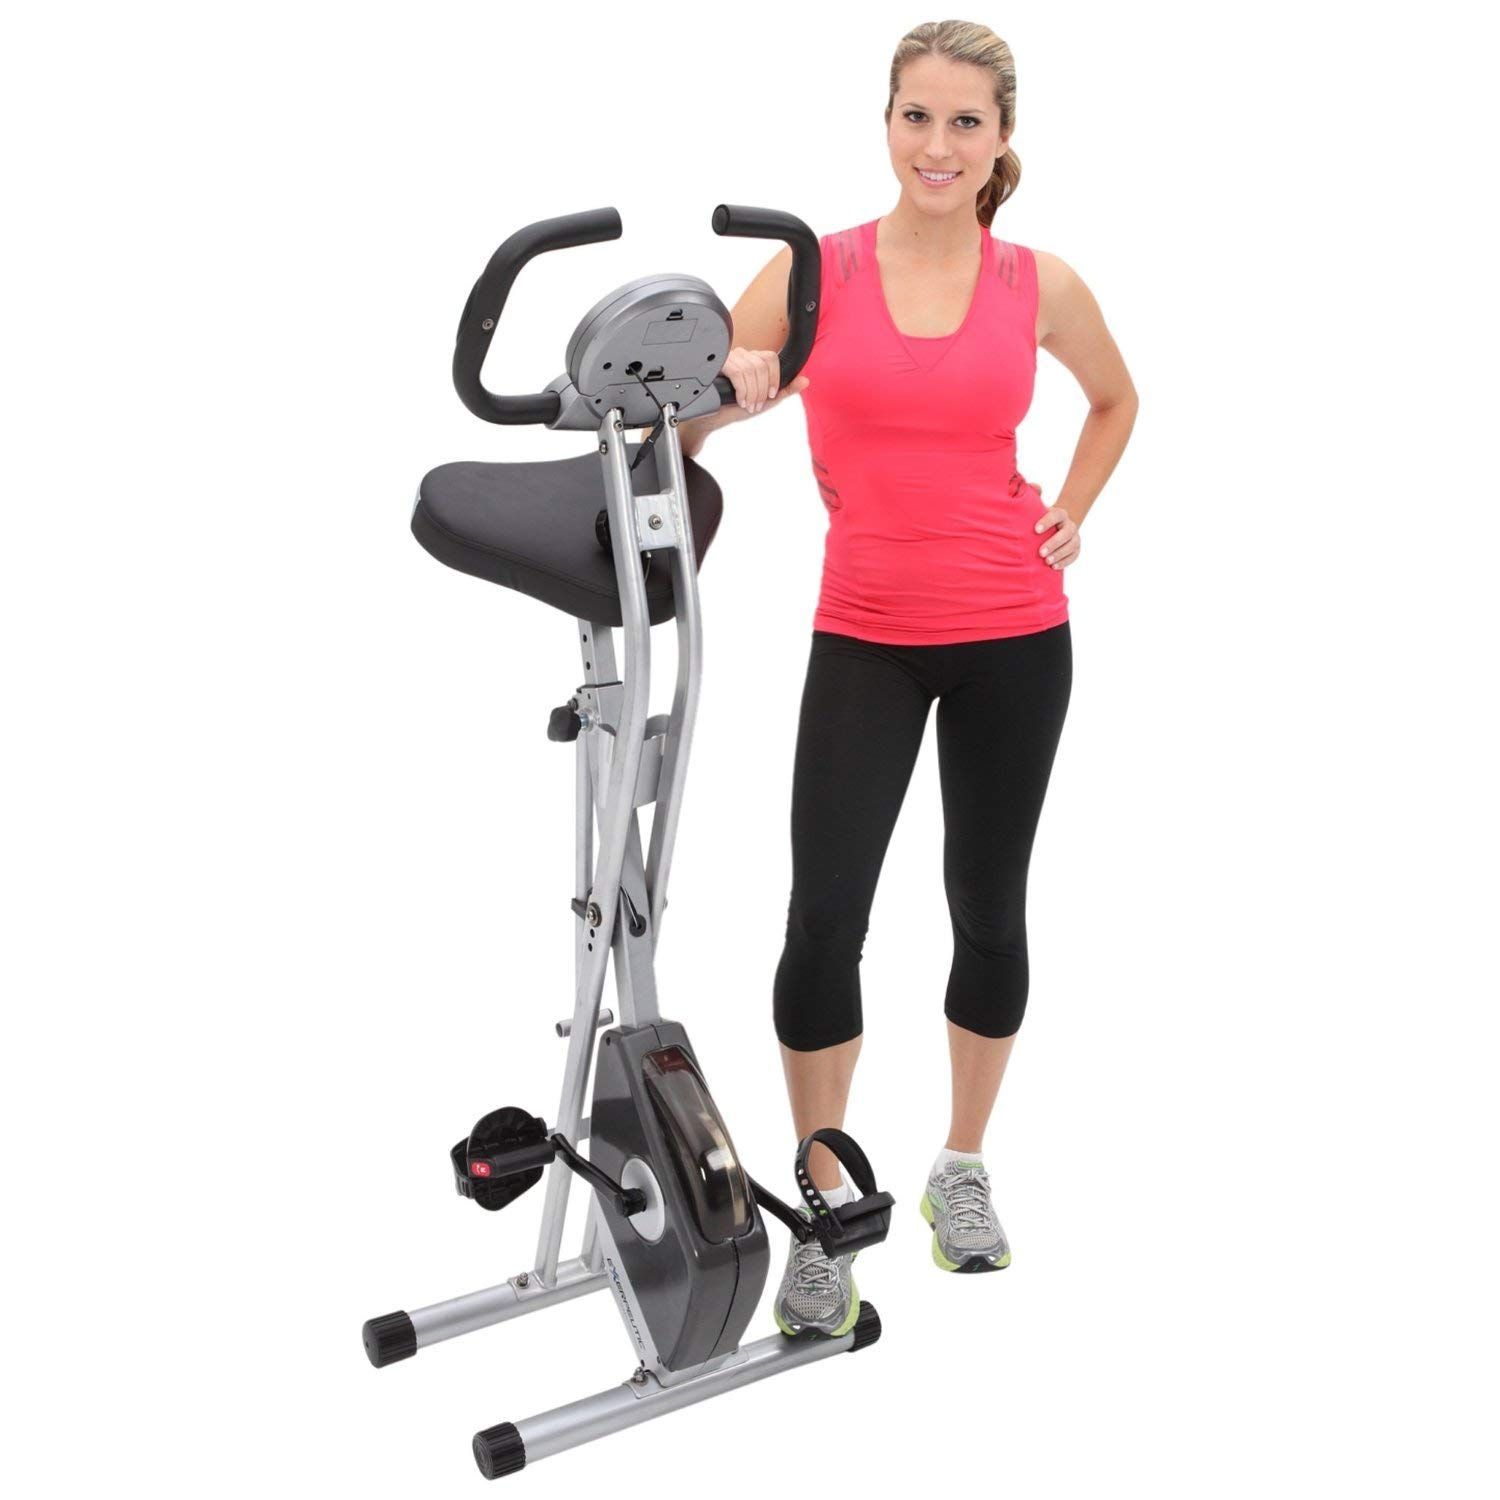gym_bike: (321, 174, 902, 1466)
